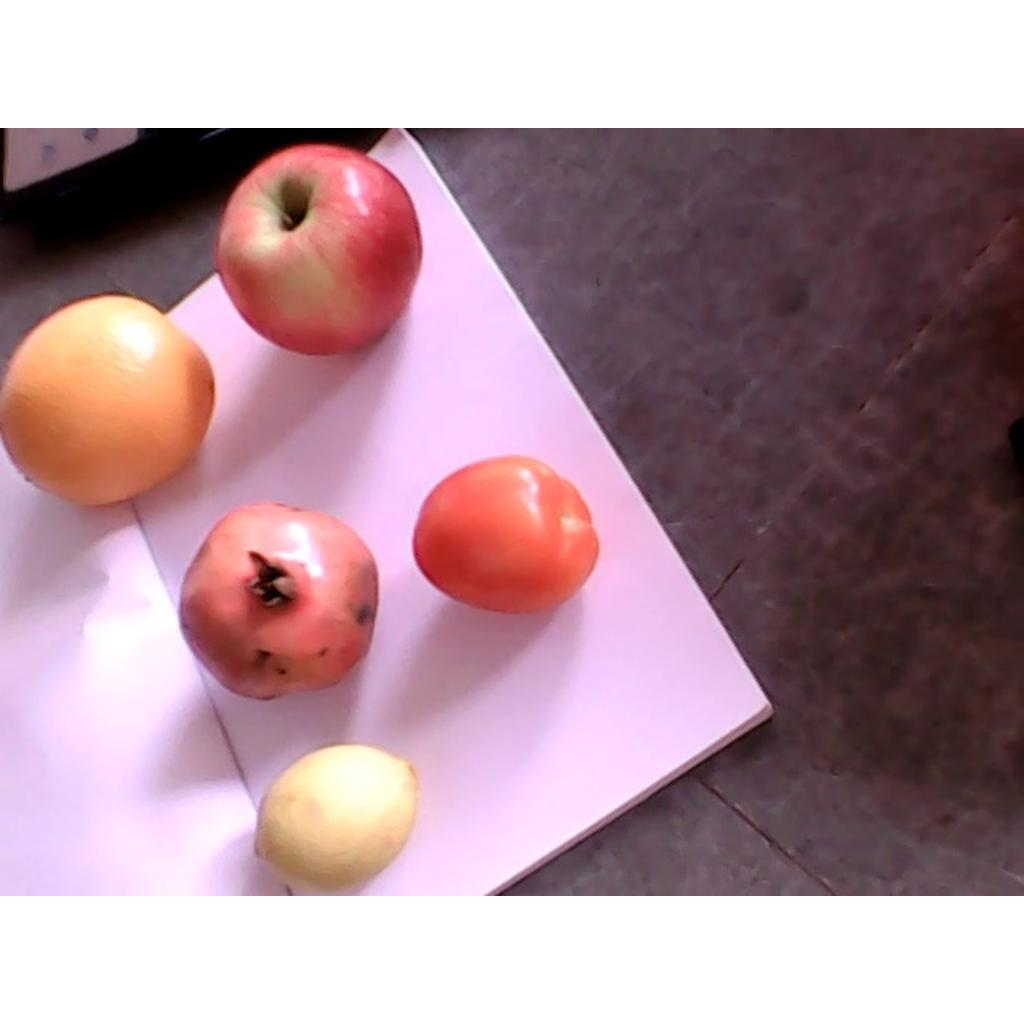apple: (213, 142, 420, 356)
lemon: (255, 744, 420, 894)
orange: (0, 295, 217, 506)
pomegranate: (178, 503, 378, 702)
tomato: (413, 456, 599, 617)
